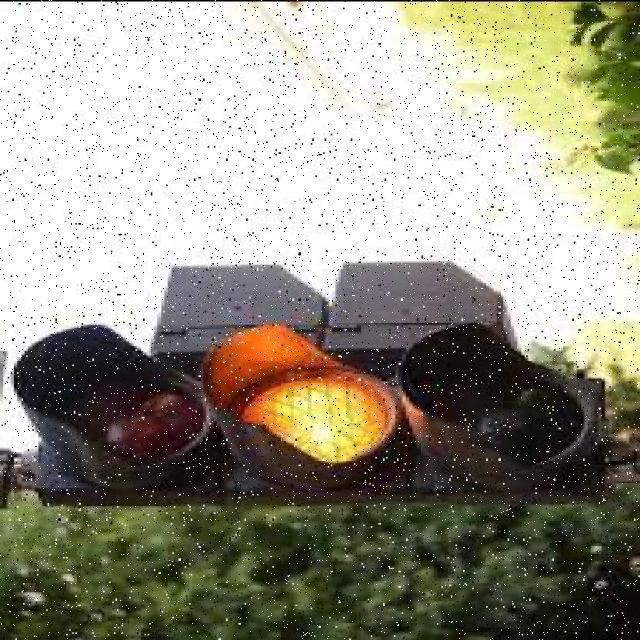yellow-light: (16, 263, 634, 506)
